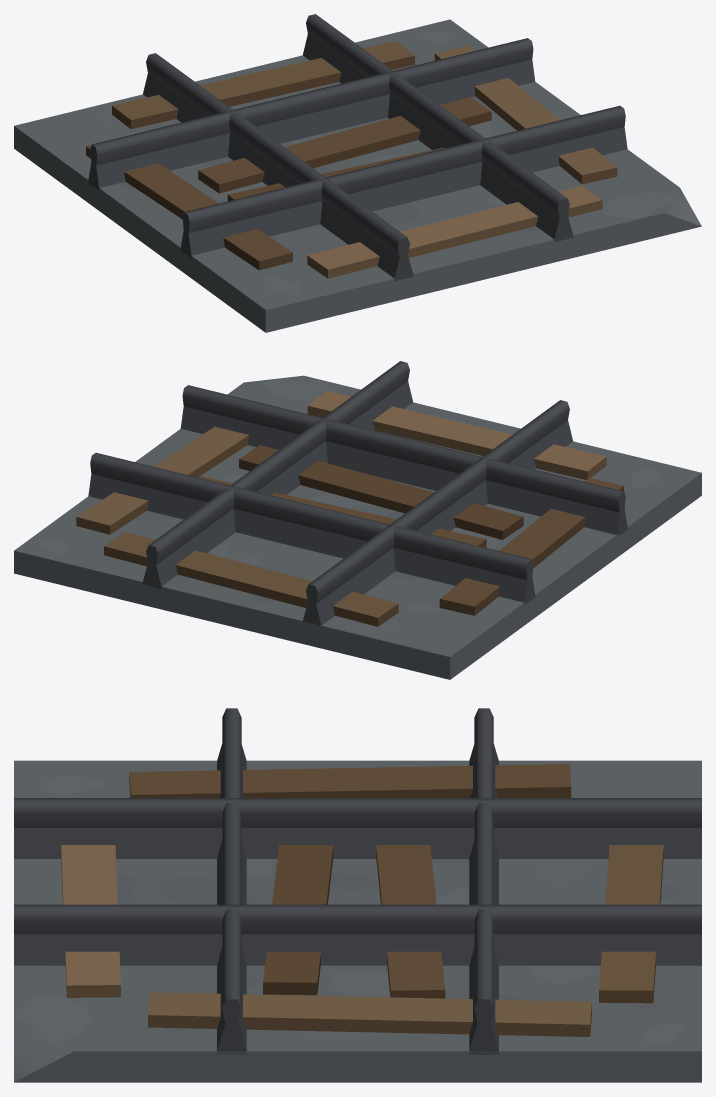
The model's file is Railroad_B01.fbx.
The picture shows the model from 3 angles, top to bottom: view 1: azimuth 30°, elevation 25°; view 2: azimuth 150°, elevation 25°; view 3: azimuth 270°, elevation 25°; orthographic projection. The views are drawn at different scales.
Visible parts, largest first — view 1: Railroad_B01; view 2: Railroad_B01; view 3: Railroad_B01.
Boxes of the visible parts, x1=… form: Railroad_B01: x1=14, y1=14, x2=701, y2=332; Railroad_B01: x1=14, y1=361, x2=701, y2=679; Railroad_B01: x1=14, y1=708, x2=701, y2=1082.
Bounding box in the file's own units: 400 × 53.47 × 400.
Materials: 1 (1 with a texture image).
